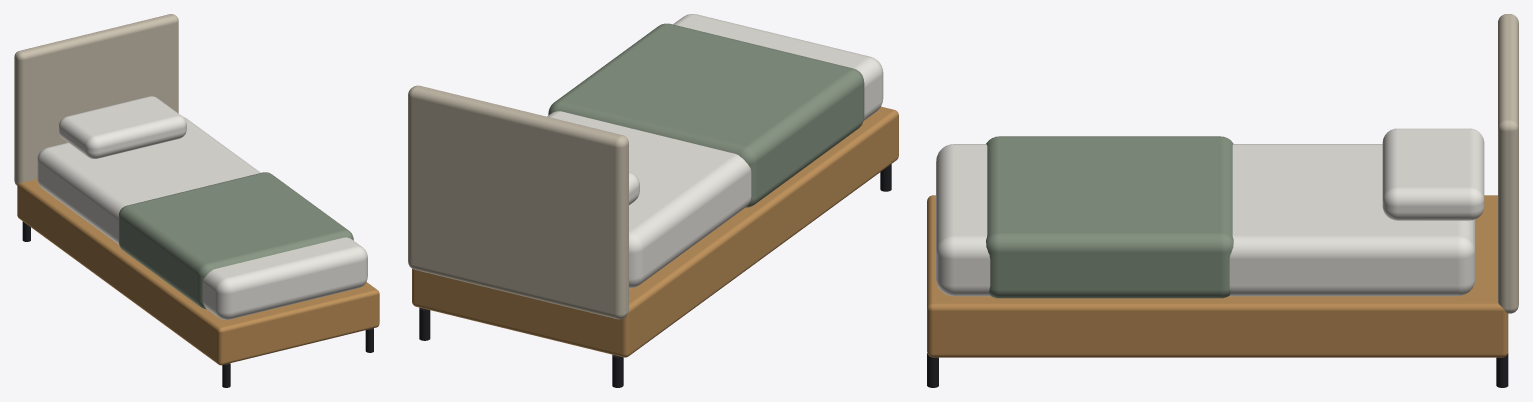
Rendered from old_bed_frame.gltf.
3 views of the same model, side by side, from view 1: azimuth 30°, elevation 25°; view 2: azimuth 150°, elevation 25°; view 3: azimuth 270°, elevation 25° (orthographic). The views are drawn at different scales.
Visible parts, largest first — view 1: old_bed_frame; view 2: old_bed_frame; view 3: old_bed_frame.
Boxes of the visible parts, left/top/right/bottom form: old_bed_frame: left=14, top=14, right=379, bottom=387; old_bed_frame: left=408, top=14, right=898, bottom=387; old_bed_frame: left=927, top=14, right=1518, bottom=387.
Size of the model in its own units: 0.9 by 1 by 2.
